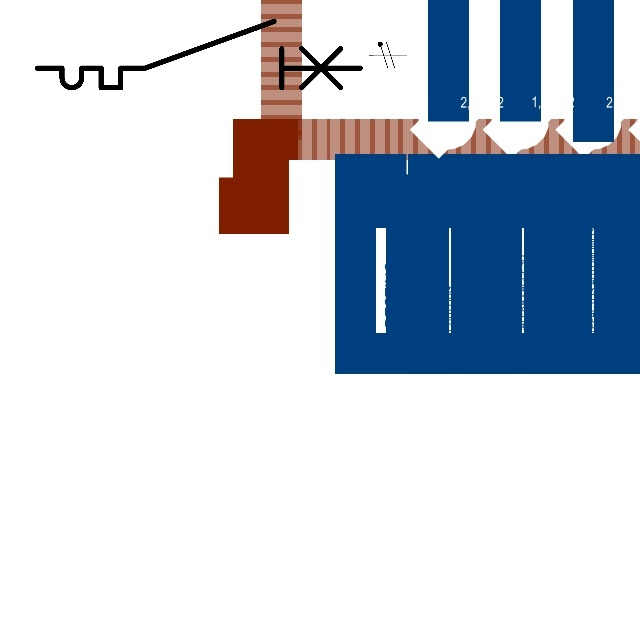interruptor_termomagnetico: (29, 13, 369, 96)
